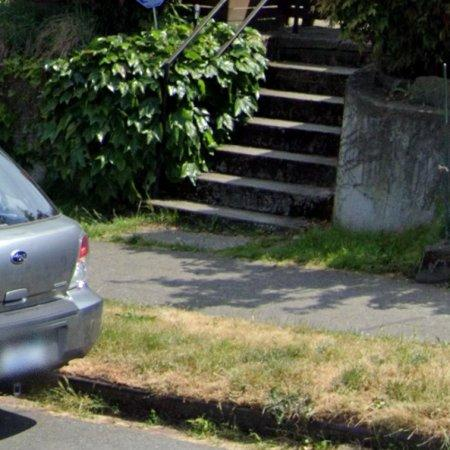stairs: (151, 27, 366, 230)
